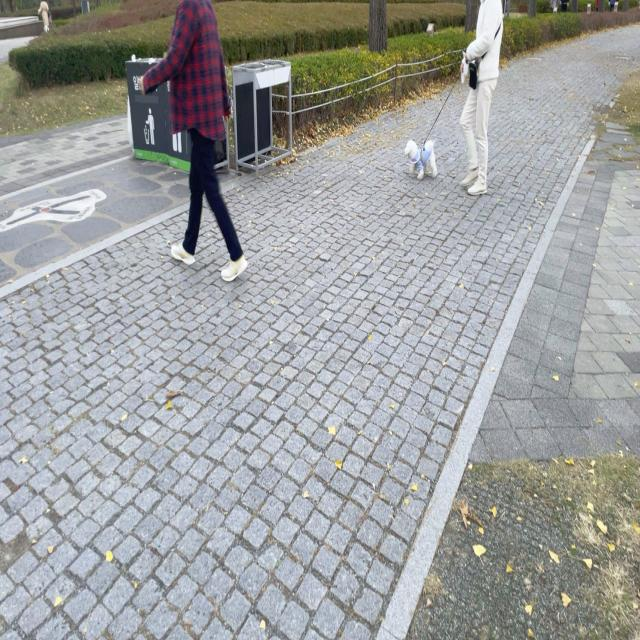Leashed_Dog: (403, 50, 481, 183)
